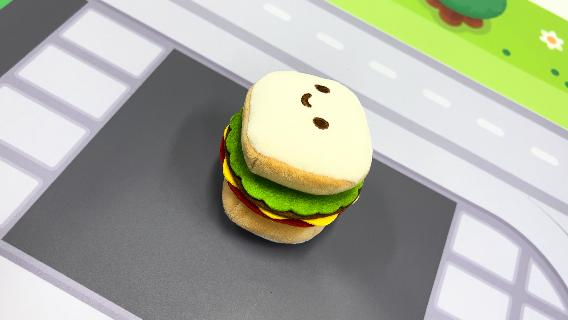sandwich: (218, 68, 376, 245)
